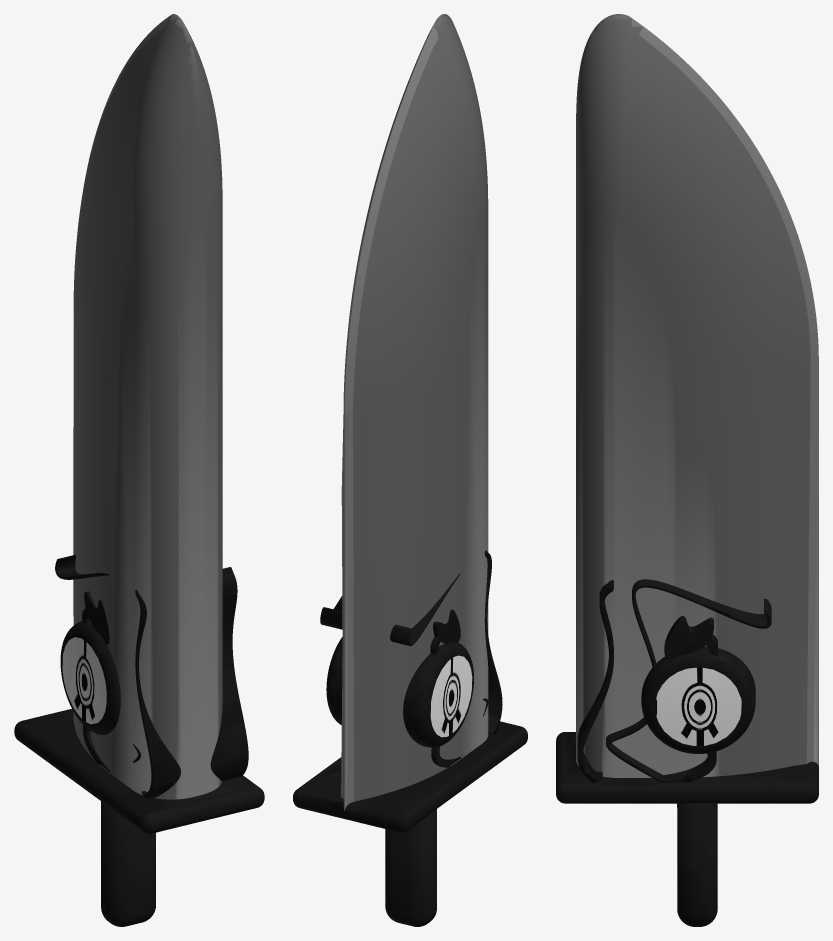
The model's file is zweihander.obj.
The picture shows the model from 3 angles, left to right: view 1: azimuth 30°, elevation 25°; view 2: azimuth 150°, elevation 25°; view 3: azimuth 270°, elevation 25°; orthographic projection. The views are drawn at different scales.
Visible parts, largest first — view 1: zweihander.001_zweihander.002; view 2: zweihander.001_zweihander.002; view 3: zweihander.001_zweihander.002.
Boxes of the visible parts, box(x1,y1,x2,y2) form: zweihander.001_zweihander.002: box(14, 14, 264, 926); zweihander.001_zweihander.002: box(293, 14, 527, 926); zweihander.001_zweihander.002: box(556, 14, 818, 926).
Bounding box in the file's own units: 0.3339 × 2.43 × 0.6361.
